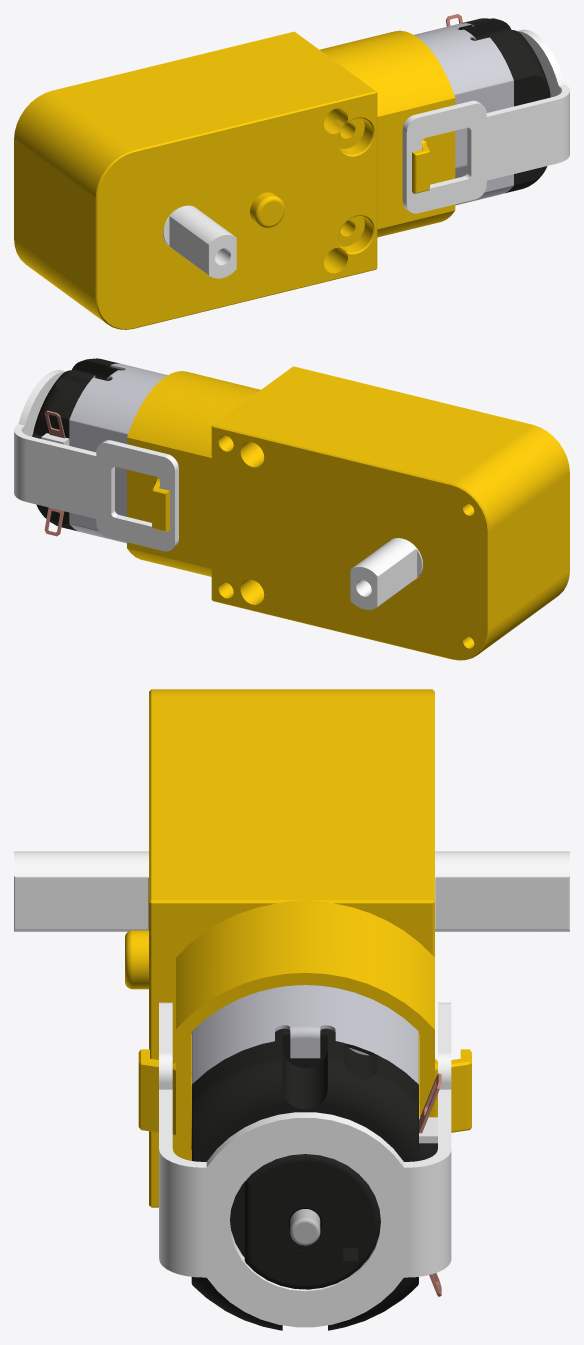
3 views of the same model, one above another, from view 1: azimuth 30°, elevation 25°; view 2: azimuth 150°, elevation 25°; view 3: azimuth 270°, elevation 25° (orthographic). The views are drawn at different scales.
Visible parts, largest first — view 1: tt_motor; view 2: tt_motor; view 3: tt_motor.
Boxes of the visible parts, left/top/right/bottom form: tt_motor: left=14, top=14, right=569, bottom=329; tt_motor: left=14, top=358, right=569, bottom=660; tt_motor: left=14, top=689, right=569, bottom=1330.
Size of the model in its own units: 6.55 by 2.24 by 3.67.
